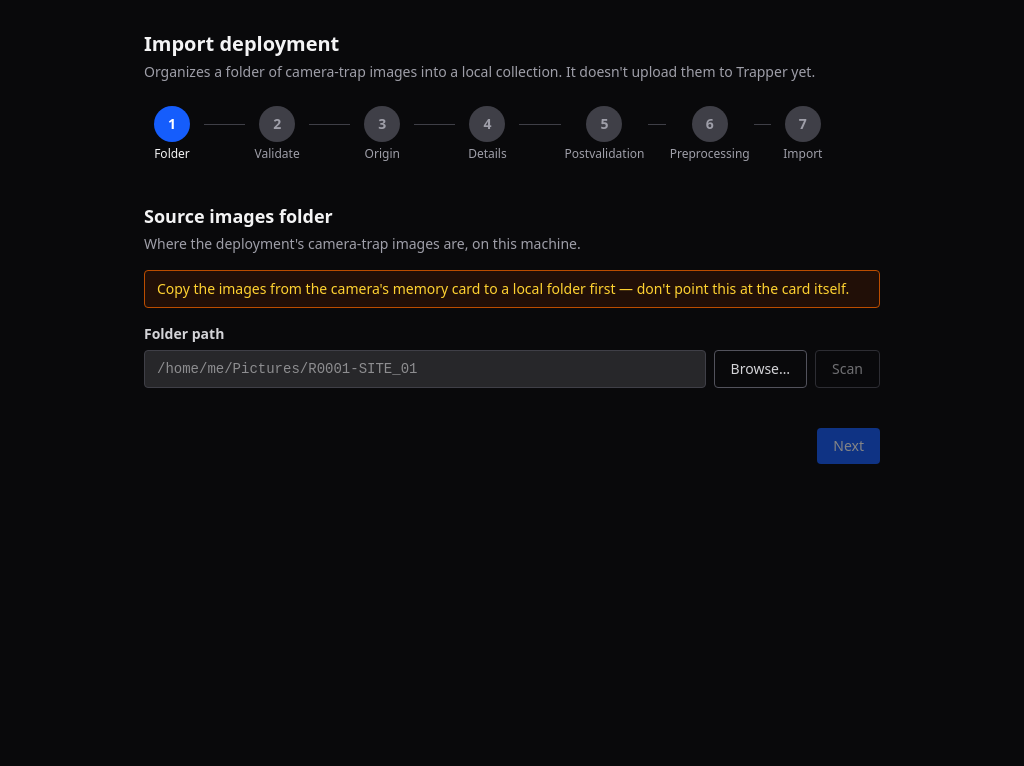
Test: ImportDeploymentPage › where the images were taken › asks for no location until a research project is picked, and then for its own locations only
The width and height of the screenshot is (1024, 766).
Step 1. Type "/home/me/deployments/DONA_01" into the field labelled "Folder path" → {"x": 425, "y": 369}, box x1=144 y1=350 x2=706 y2=388
Step 2. Click the button "Scan" → {"x": 848, "y": 369}, box x1=815 y1=350 x2=880 y2=388
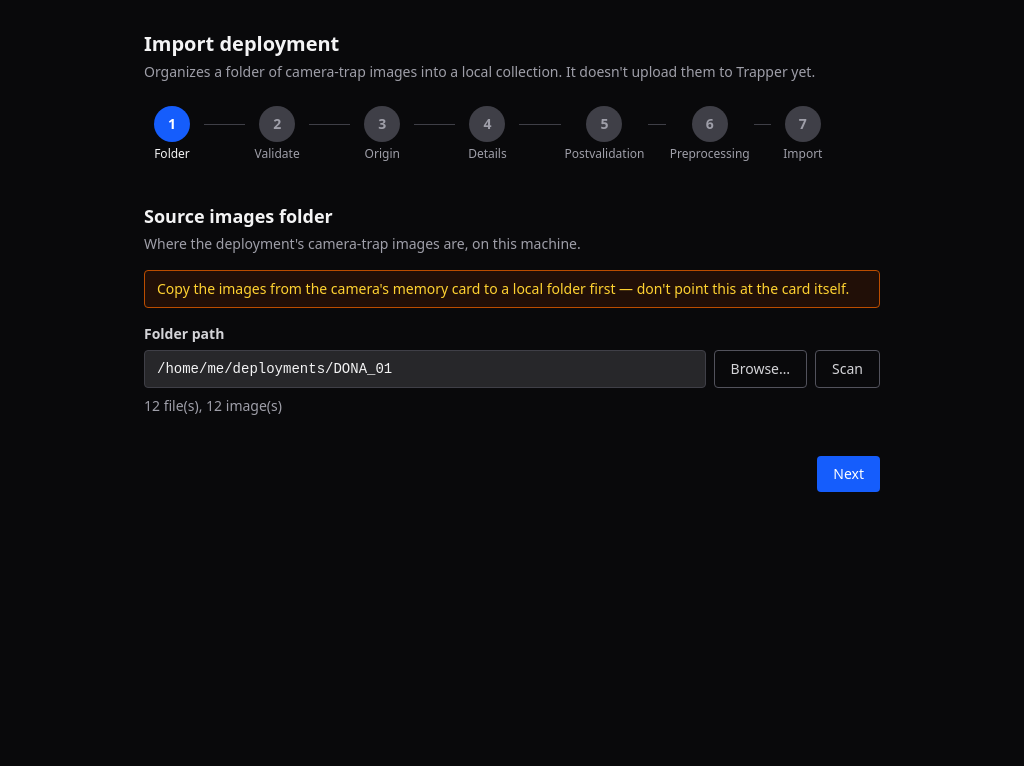
Expected: the text "12 file(s), 12 image(s)" is shown, x1=144 y1=396 x2=282 y2=415
Step 3. Click the button "Next" → {"x": 849, "y": 474}, box x1=817 y1=456 x2=880 y2=492
(page scrolled)
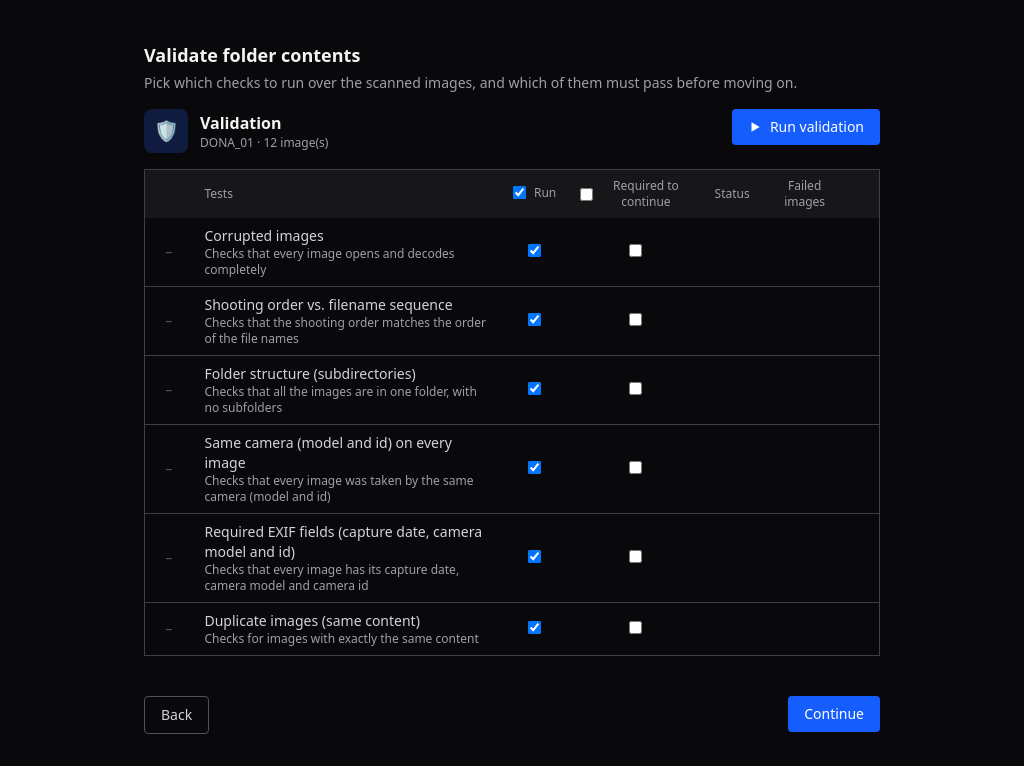
Expected: the heading "Validate folder contents" is shown, x1=144 y1=43 x2=360 y2=67
Step 4. Click the button "Continue" → {"x": 834, "y": 714}, box x1=788 y1=696 x2=880 y2=732
(page scrolled)
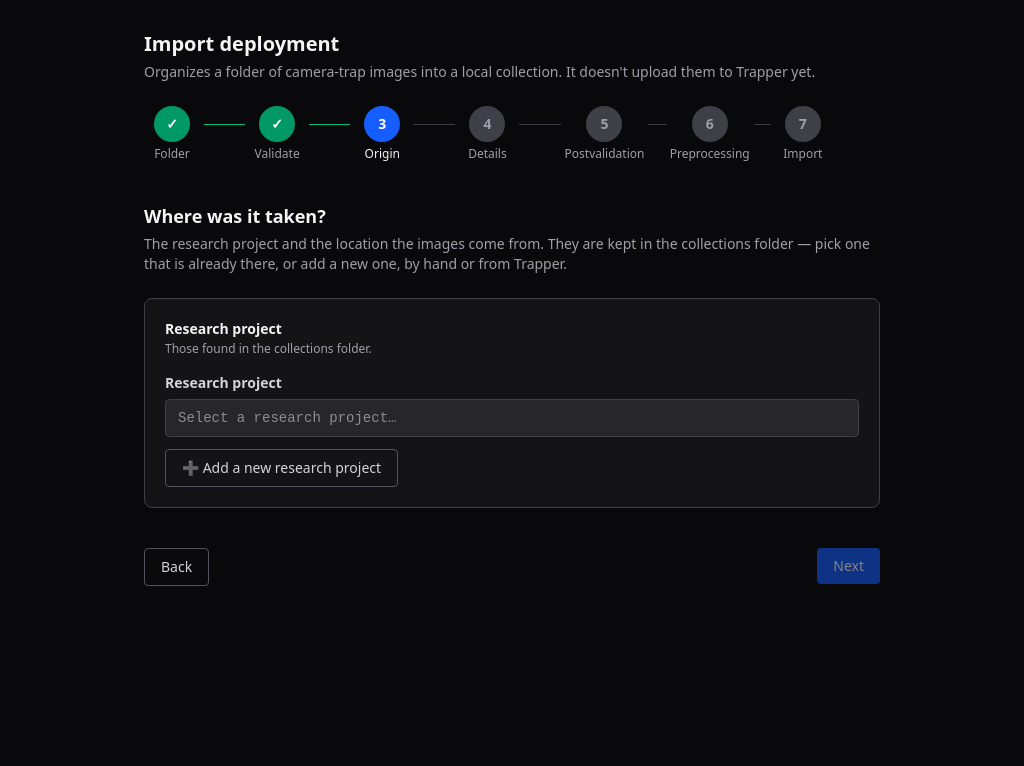
Expected: the heading "Where was it taken?" is shown, x1=144 y1=204 x2=326 y2=228
Step 5. Click the dropdown labelled "Research project" → {"x": 512, "y": 418}, box x1=165 y1=399 x2=859 y2=437
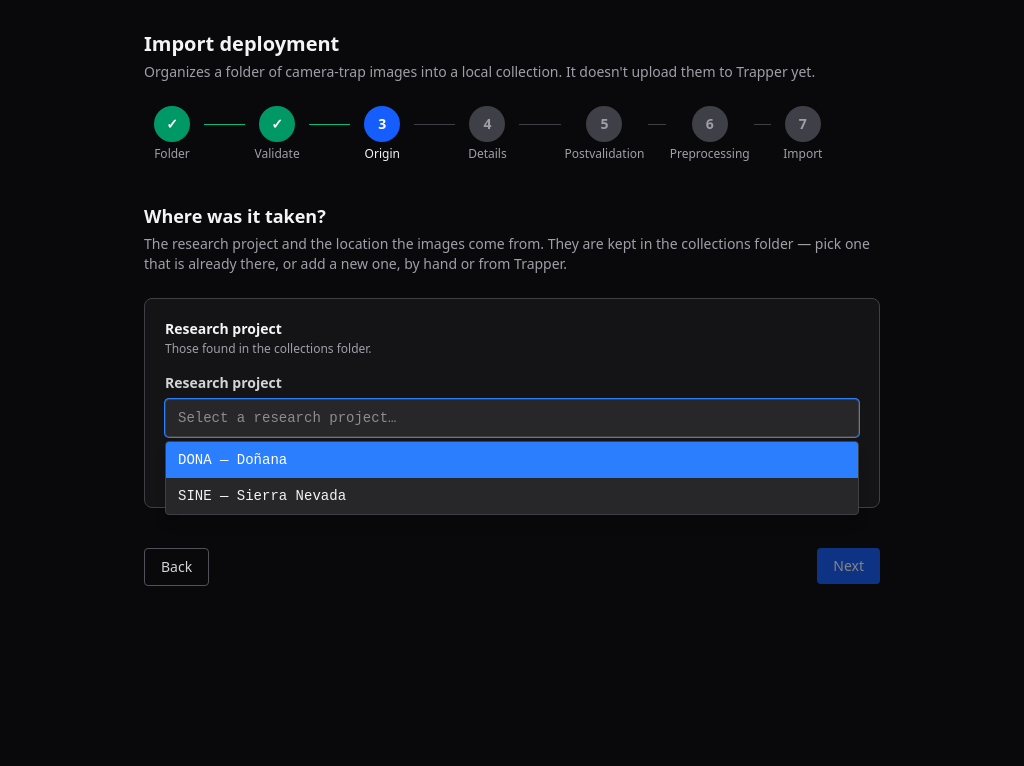
Step 6. Click the option "SINE — Sierra Nevada" → {"x": 262, "y": 496}, box x1=178 y1=488 x2=346 y2=504
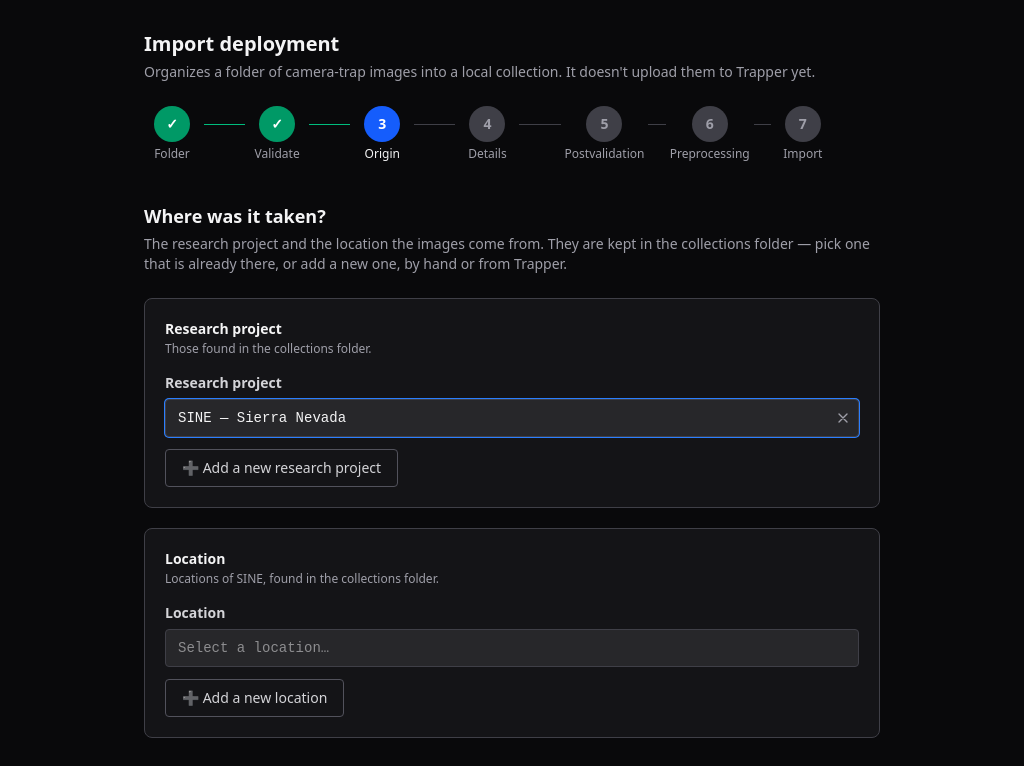
Step 7. Click the dropdown labelled "Location" → {"x": 512, "y": 648}, box x1=165 y1=629 x2=859 y2=667
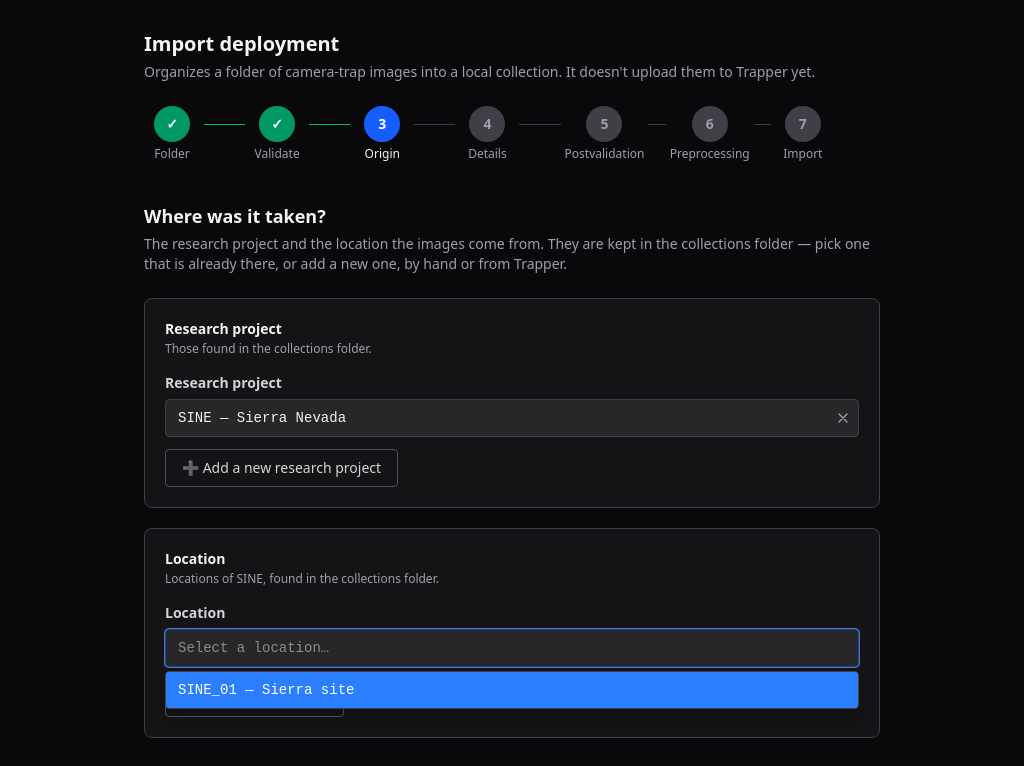
Expected: the option "SINE_01 — Sierra site" is shown, x1=166 y1=672 x2=858 y2=708
